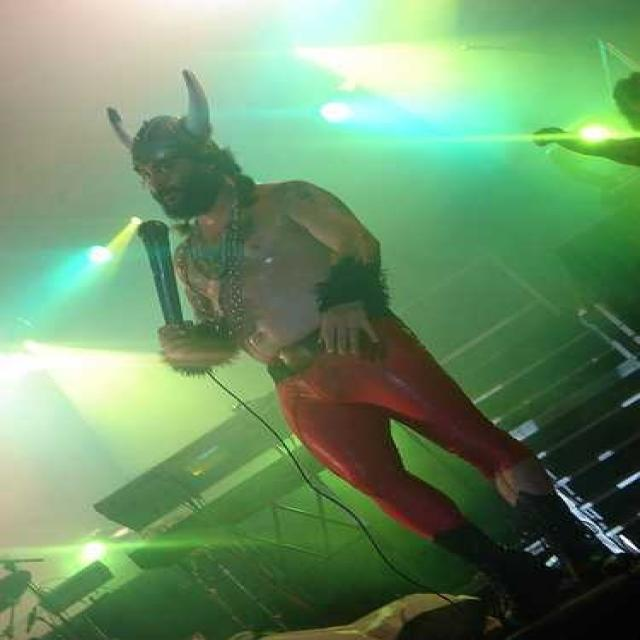microphone: (135, 220, 208, 381)
